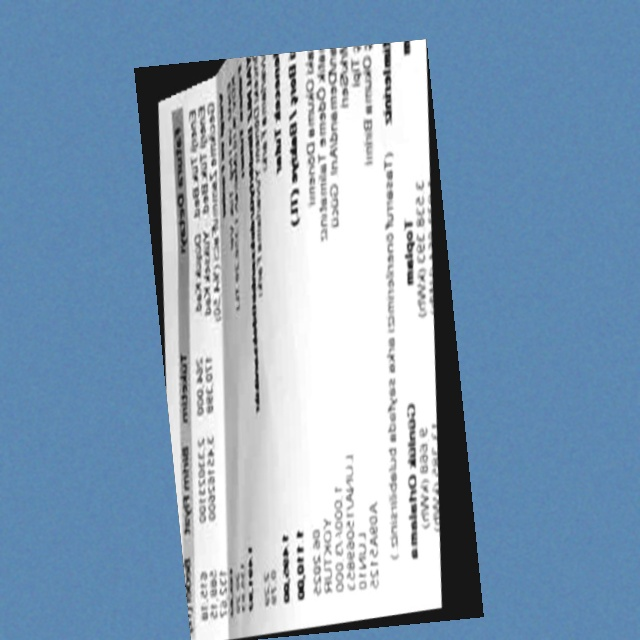electricity-bill: (133, 38, 483, 639)
